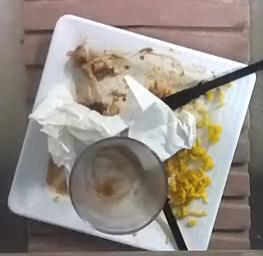rice: (164, 138, 213, 217)
